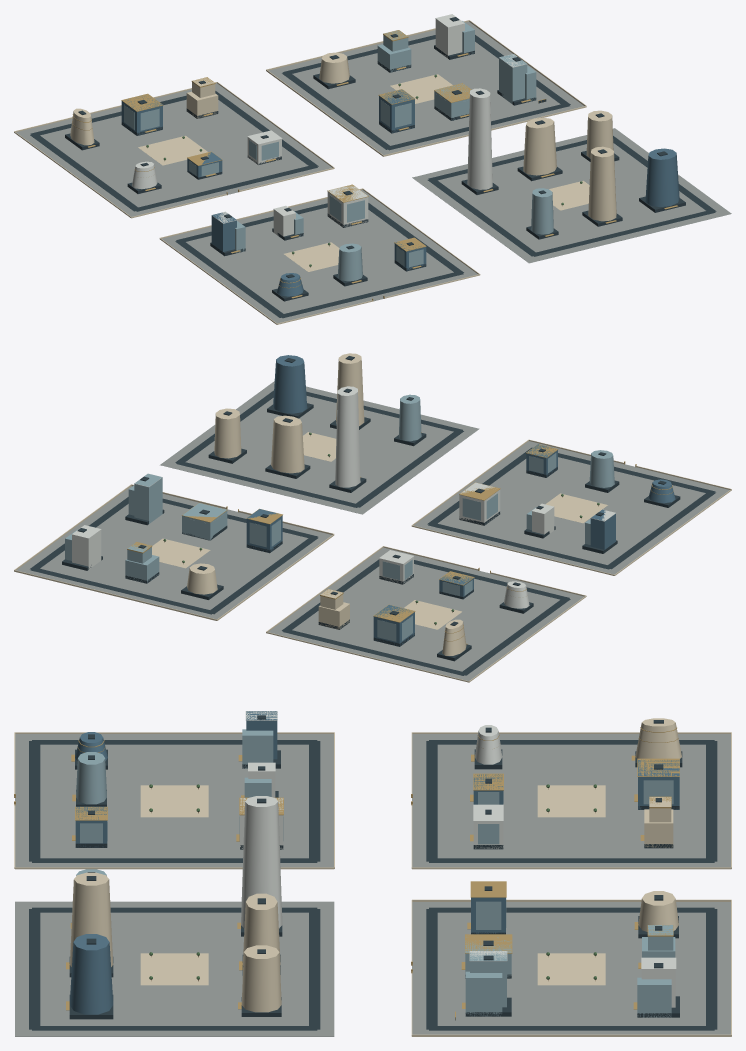
Rendered from GC-TILE-15-11.glb.
3 views of the same model, one above another, from view 1: azimuth 30°, elevation 25°; view 2: azimuth 150°, elevation 25°; view 3: azimuth 270°, elevation 25° (orthographic). The views are drawn at different scales.
Visible parts, largest first — view 1: GC-TILE-15-11-paving, GC-TILE-15-11-ivory, GC-TILE-15-11-dark, GC-TILE-15-11-glass, GC-TILE-15-11-white, GC-TILE-15-11-blue, GC-TILE-15-11-gold; view 2: GC-TILE-15-11-paving, GC-TILE-15-11-dark, GC-TILE-15-11-ivory, GC-TILE-15-11-glass, GC-TILE-15-11-white, GC-TILE-15-11-blue, GC-TILE-15-11-gold; view 3: GC-TILE-15-11-paving, GC-TILE-15-11-ivory, GC-TILE-15-11-dark, GC-TILE-15-11-glass, GC-TILE-15-11-white, GC-TILE-15-11-blue, GC-TILE-15-11-gold.
Boxes of the visible parts, x1=… form: GC-TILE-15-11-paving: x1=16, y1=22, x2=731, y2=323; GC-TILE-15-11-ivory: x1=14, y1=20, x2=616, y2=324; GC-TILE-15-11-dark: x1=30, y1=17, x2=716, y2=318; GC-TILE-15-11-glass: x1=124, y1=21, x2=553, y2=281; GC-TILE-15-11-white: x1=132, y1=14, x2=527, y2=236; GC-TILE-15-11-blue: x1=121, y1=89, x2=679, y2=296; GC-TILE-15-11-gold: x1=72, y1=30, x2=677, y2=301; GC-TILE-15-11-paving: x1=16, y1=381, x2=729, y2=680; GC-TILE-15-11-dark: x1=30, y1=356, x2=715, y2=675; GC-TILE-15-11-ivory: x1=14, y1=353, x2=731, y2=682; GC-TILE-15-11-glass: x1=65, y1=394, x2=614, y2=641; GC-TILE-15-11-white: x1=72, y1=386, x2=615, y2=608; GC-TILE-15-11-blue: x1=246, y1=355, x2=675, y2=646; GC-TILE-15-11-gold: x1=127, y1=416, x2=673, y2=644; GC-TILE-15-11-paving: x1=15, y1=734, x2=730, y2=1036; GC-TILE-15-11-ivory: x1=14, y1=718, x2=731, y2=1036; GC-TILE-15-11-dark: x1=29, y1=715, x2=717, y2=1030; GC-TILE-15-11-glass: x1=76, y1=729, x2=675, y2=1017; GC-TILE-15-11-white: x1=240, y1=711, x2=676, y2=1007; GC-TILE-15-11-blue: x1=69, y1=711, x2=679, y2=1014; GC-TILE-15-11-gold: x1=14, y1=727, x2=679, y2=1019.
Size of the model in its own units: 759 by 151 by 760.
